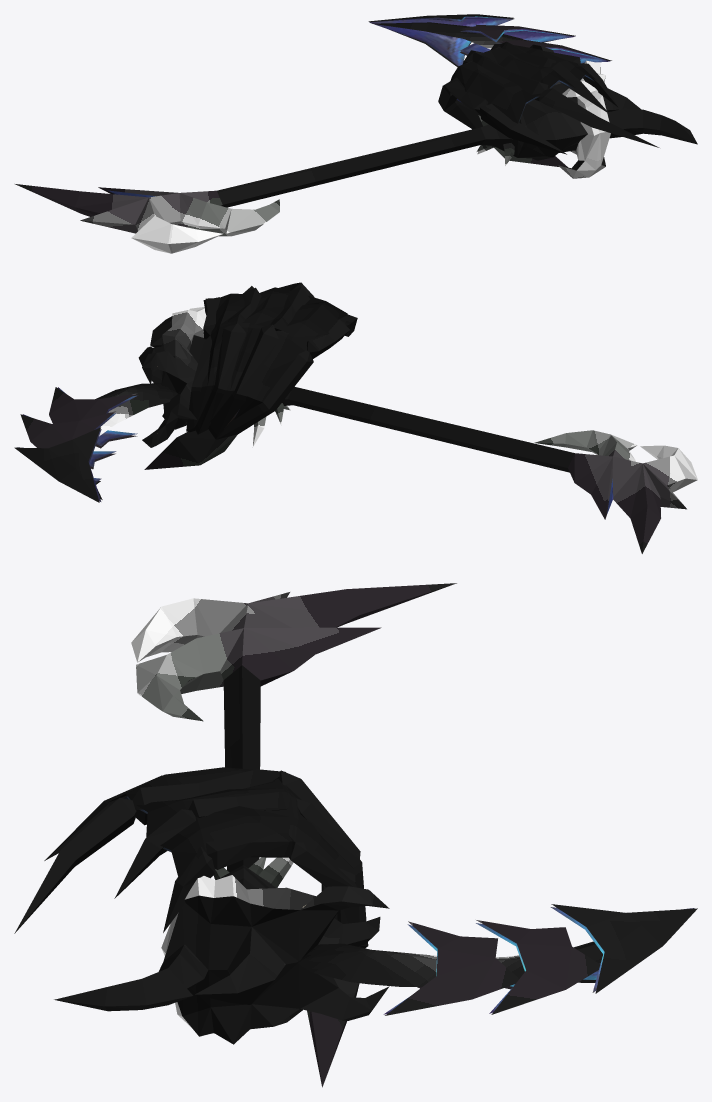
File: common_righthanditem_90650.obj
The picture shows the model from 3 angles, top to bottom: view 1: azimuth 30°, elevation 25°; view 2: azimuth 150°, elevation 25°; view 3: azimuth 270°, elevation 25°; orthographic projection. The views are drawn at different scales.
Visible parts, largest first — view 1: DAO, common_RightHandItem_90650; view 2: DAO, common_RightHandItem_90650; view 3: DAO, common_RightHandItem_90650.
Boxes of the visible parts, box(x1,y1,x2,y2) form: DAO: box(15, 14, 697, 253); common_RightHandItem_90650: box(107, 16, 610, 197); DAO: box(14, 282, 697, 553); common_RightHandItem_90650: box(17, 366, 613, 513); DAO: box(14, 583, 697, 1087); common_RightHandItem_90650: box(124, 796, 694, 1014).
Bounding box in the file's own units: 110 × 28.48 × 73.27.
